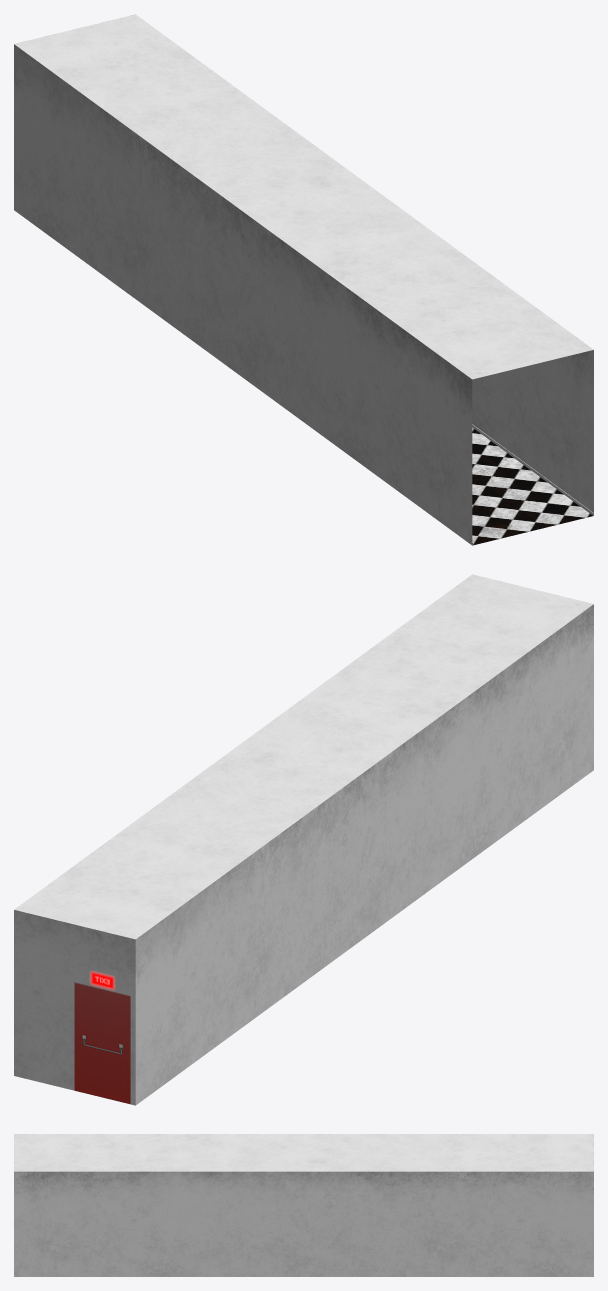
File: delusional_corridor.glb
3 renders of one model, top to bottom at view 1: azimuth 30°, elevation 25°; view 2: azimuth 150°, elevation 25°; view 3: azimuth 270°, elevation 25°, orthographic. The views are drawn at different scales.
Parts seen in each view (by area): view 1: object 1, BodenUndDecke; view 2: object 1, BodenUndDecke; view 3: object 1, BodenUndDecke.
Boxes of the visible parts, left/top/right/bottom form: object 1: left=14, top=44, right=593, bottom=545; BodenUndDecke: left=14, top=14, right=593, bottom=545; object 1: left=14, top=604, right=593, bottom=1105; BodenUndDecke: left=14, top=574, right=593, bottom=939; object 1: left=14, top=1171, right=593, bottom=1276; BodenUndDecke: left=14, top=1134, right=593, bottom=1171.
Bounding box in the file's own units: 2.3 × 3 × 15.
Materials: 3 (3 with a texture image).
